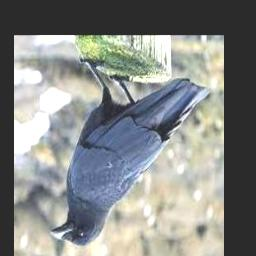Crow: (52, 58, 210, 248)
